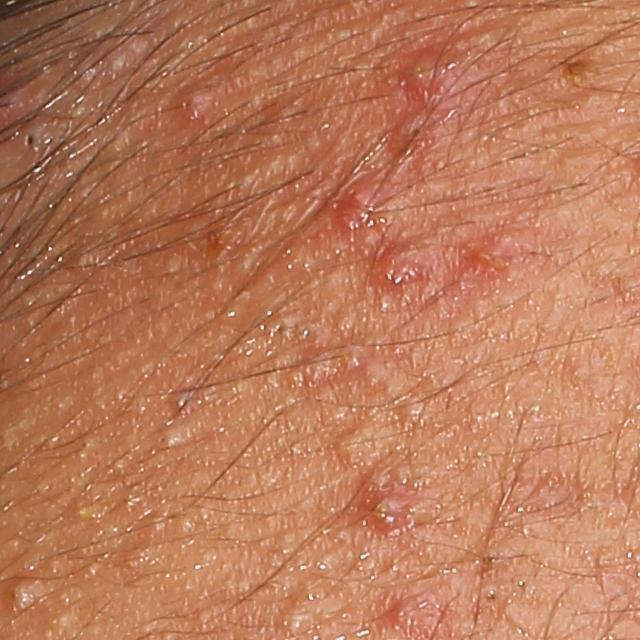comedo: (375, 358, 431, 420), (590, 472, 638, 520), (338, 423, 389, 468), (18, 112, 63, 160), (527, 472, 575, 517), (4, 570, 49, 617), (276, 602, 316, 639), (69, 240, 105, 277), (269, 307, 305, 344), (158, 418, 192, 452), (135, 513, 168, 544), (47, 606, 75, 640), (72, 490, 99, 524), (478, 584, 507, 608), (110, 52, 130, 74), (566, 361, 587, 380)
papule: (378, 241, 429, 291), (383, 592, 436, 634), (400, 50, 448, 94), (176, 78, 223, 120), (473, 235, 523, 274)
